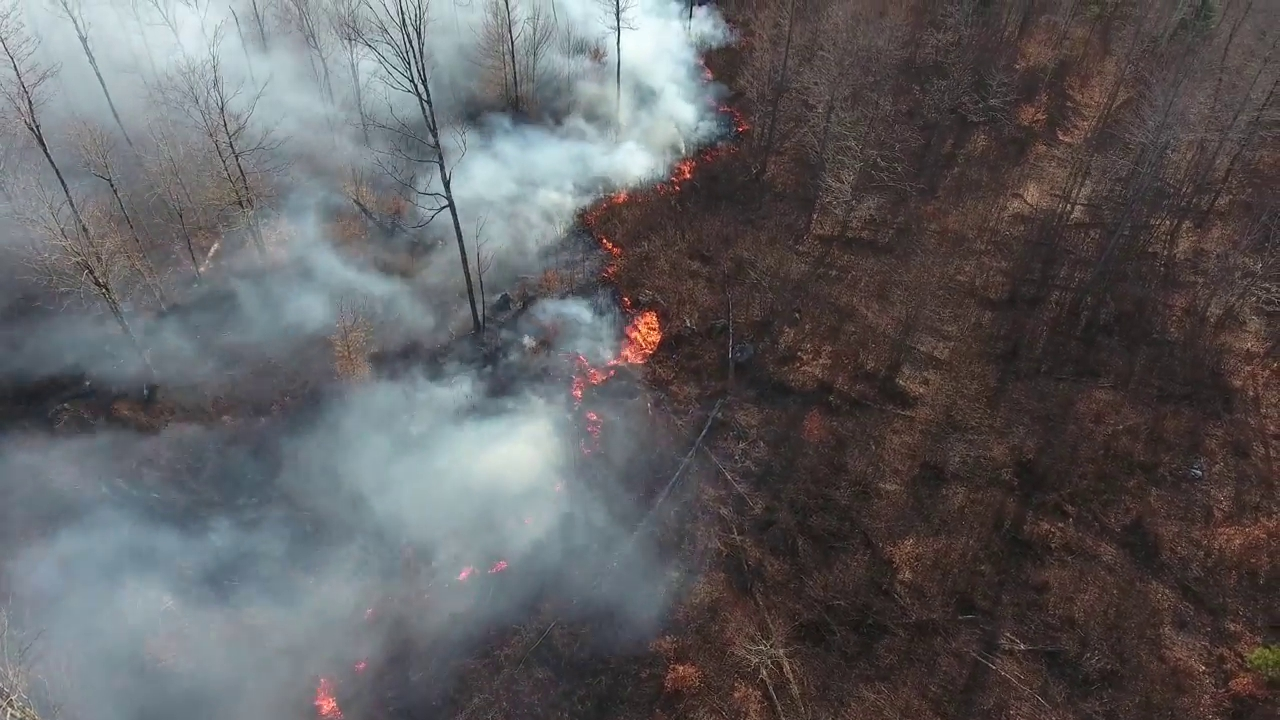forest_fire: (569, 295, 663, 454), (579, 190, 638, 280), (653, 144, 735, 193), (312, 677, 343, 718), (719, 105, 746, 135), (456, 565, 477, 580), (487, 560, 507, 572), (353, 660, 366, 671), (554, 482, 561, 490), (707, 72, 711, 79)
